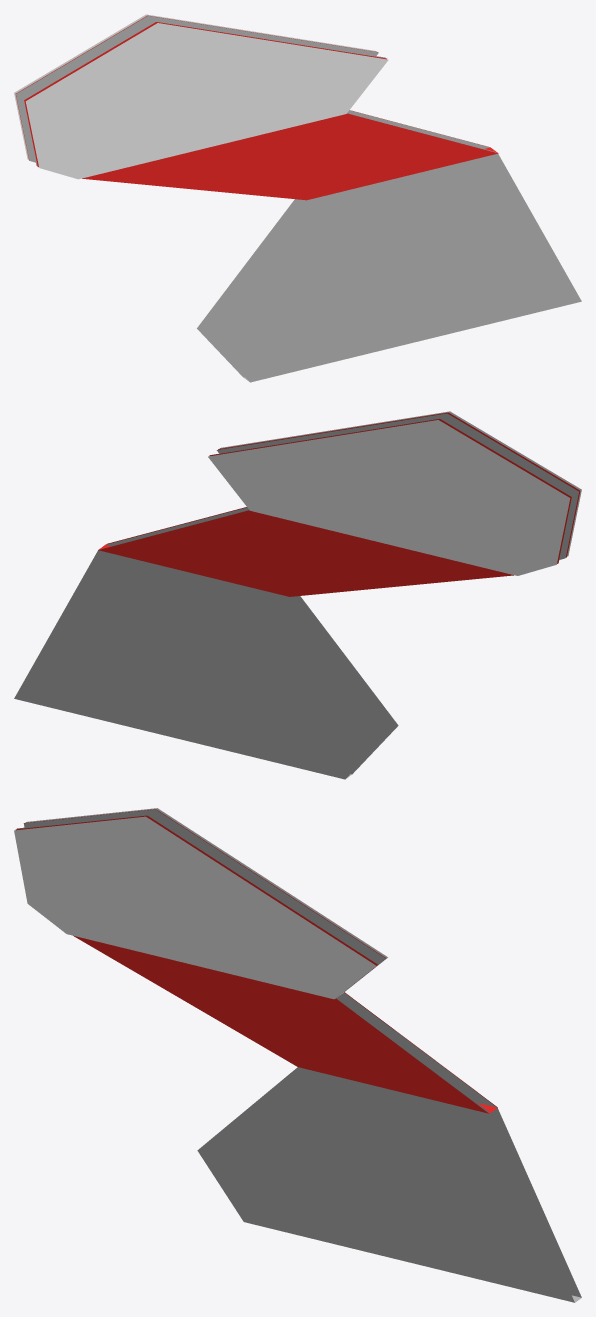
The model's file is MidleBottomPh2.fbx.
The picture shows the model from 3 angles, top to bottom: view 1: azimuth 30°, elevation 25°; view 2: azimuth 150°, elevation 25°; view 3: azimuth 330°, elevation 25°; orthographic projection.
Parts seen in each view (by area): view 1: Plane.072; view 2: Plane.072; view 3: Plane.072.
Part boxes in pixels (x1,y1,x2,y2): Plane.072: (14,14,581,382); Plane.072: (14,411,581,779); Plane.072: (14,808,581,1302).
Bounding box in the file's own units: 3.34 × 2.19 × 0.1205.
